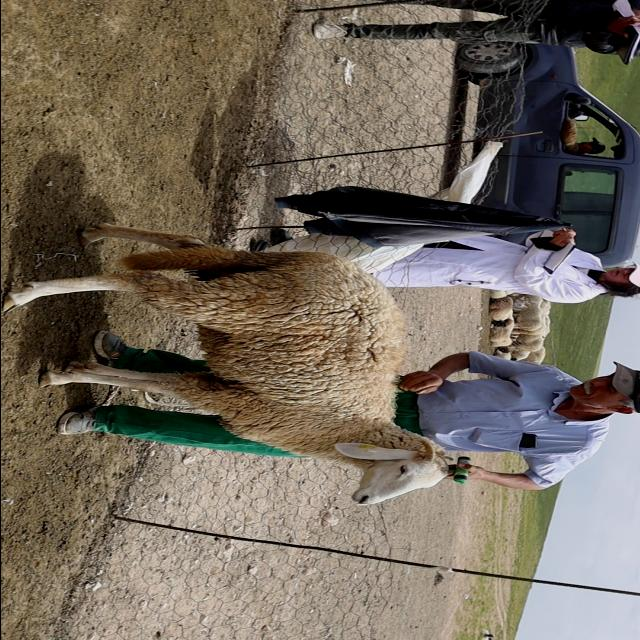Score_2: (3, 223, 447, 505)
